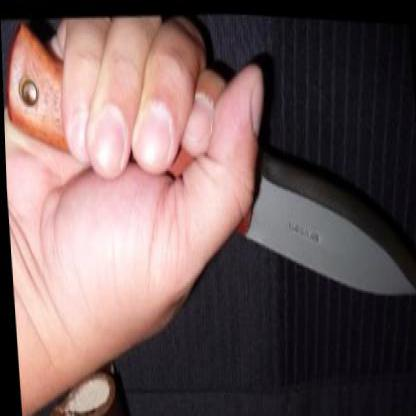knife: (107, 43, 415, 327)
